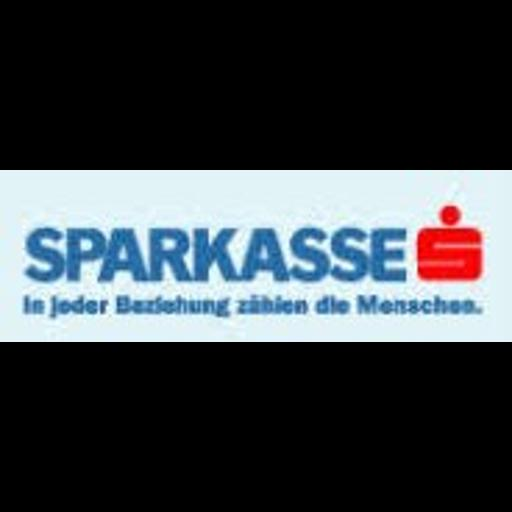Sparkasse Bank: (0, 170, 512, 342)
